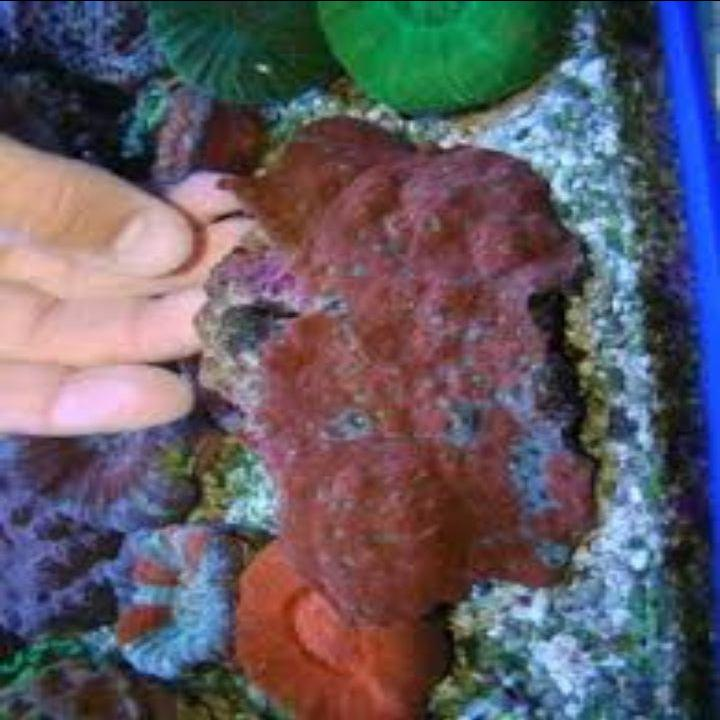Healthy Coral: (220, 113, 614, 673)
